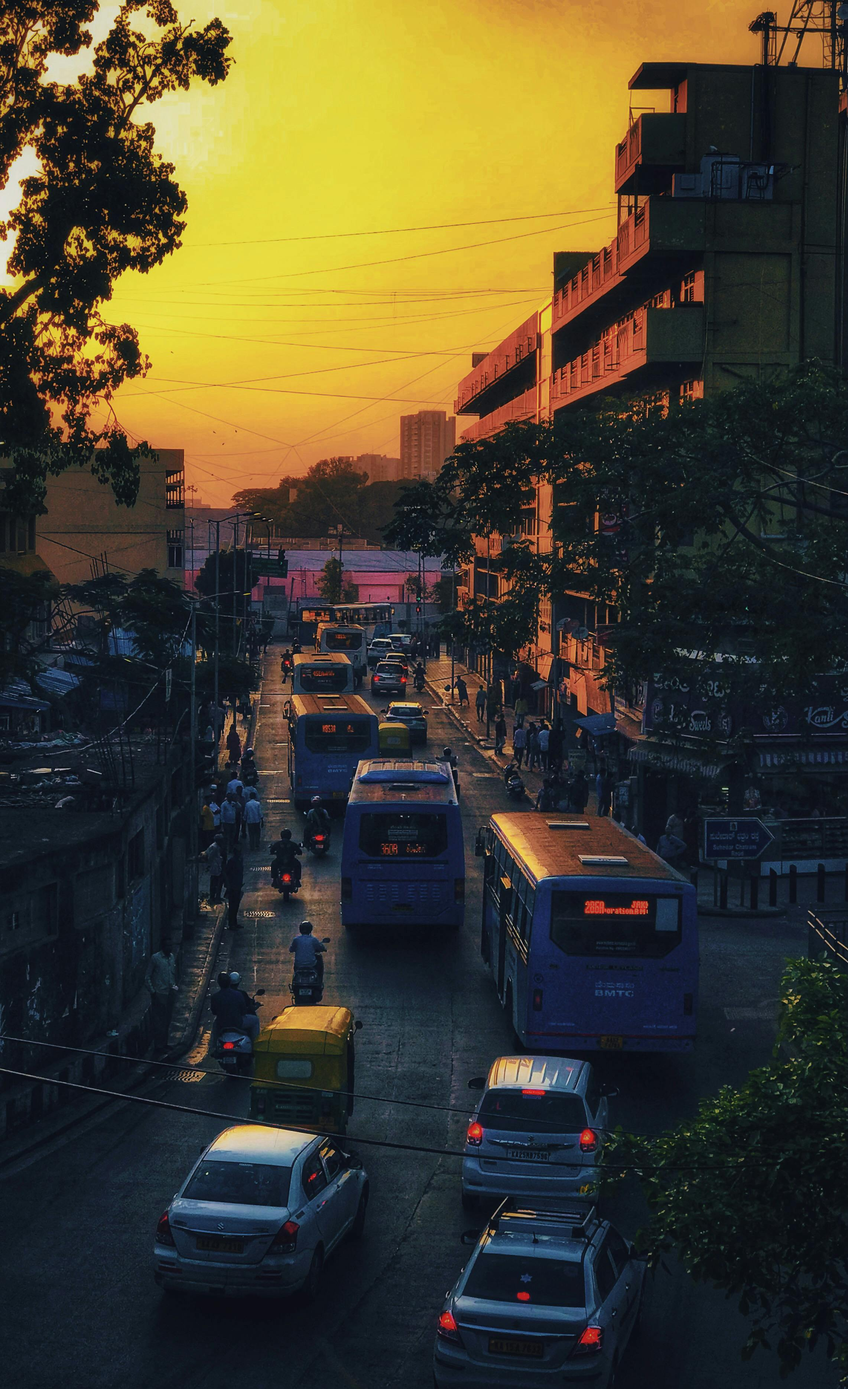other: (471, 807, 704, 1052), (435, 1189, 651, 1389), (150, 1118, 370, 1295), (456, 1043, 620, 1204), (336, 757, 466, 937), (248, 1008, 363, 1115), (278, 688, 379, 800)
